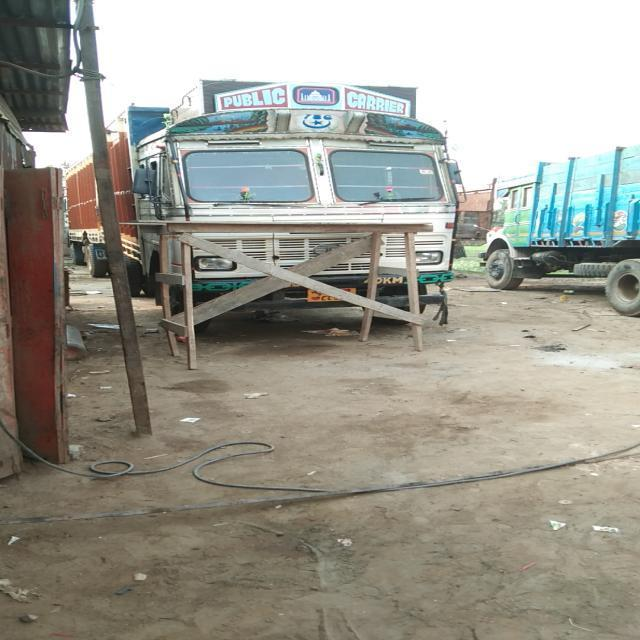truck_back: (480, 142, 640, 318)
truck_front: (53, 62, 474, 330)
